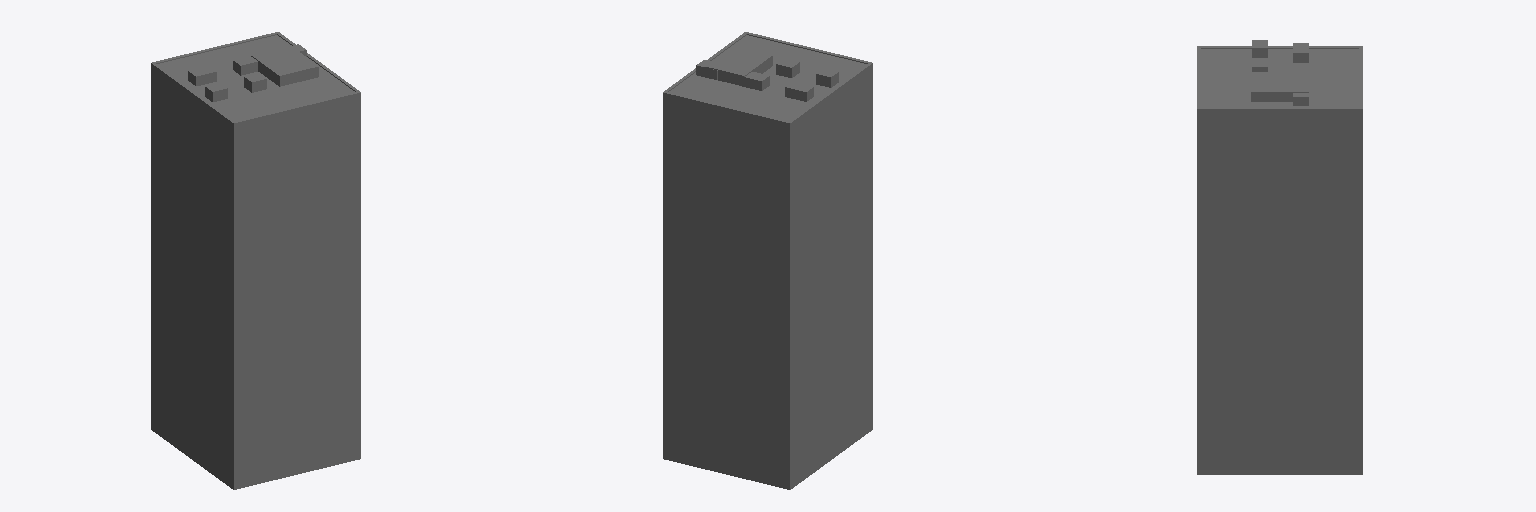
Rendered from mid2.obj.
3 renders of one model, left to right at view 1: azimuth 30°, elevation 25°; view 2: azimuth 150°, elevation 25°; view 3: azimuth 270°, elevation 25°, orthographic.
Parts seen in each view (by area): view 1: polySurface329; view 2: polySurface329; view 3: polySurface329.
Part boxes in pixels (x1,y1,x2,y2): polySurface329: (151,32,360,489); polySurface329: (663,32,872,489); polySurface329: (1197,40,1362,474).
Size of the model in its own units: 0.0201 by 0.0565 by 0.0226.